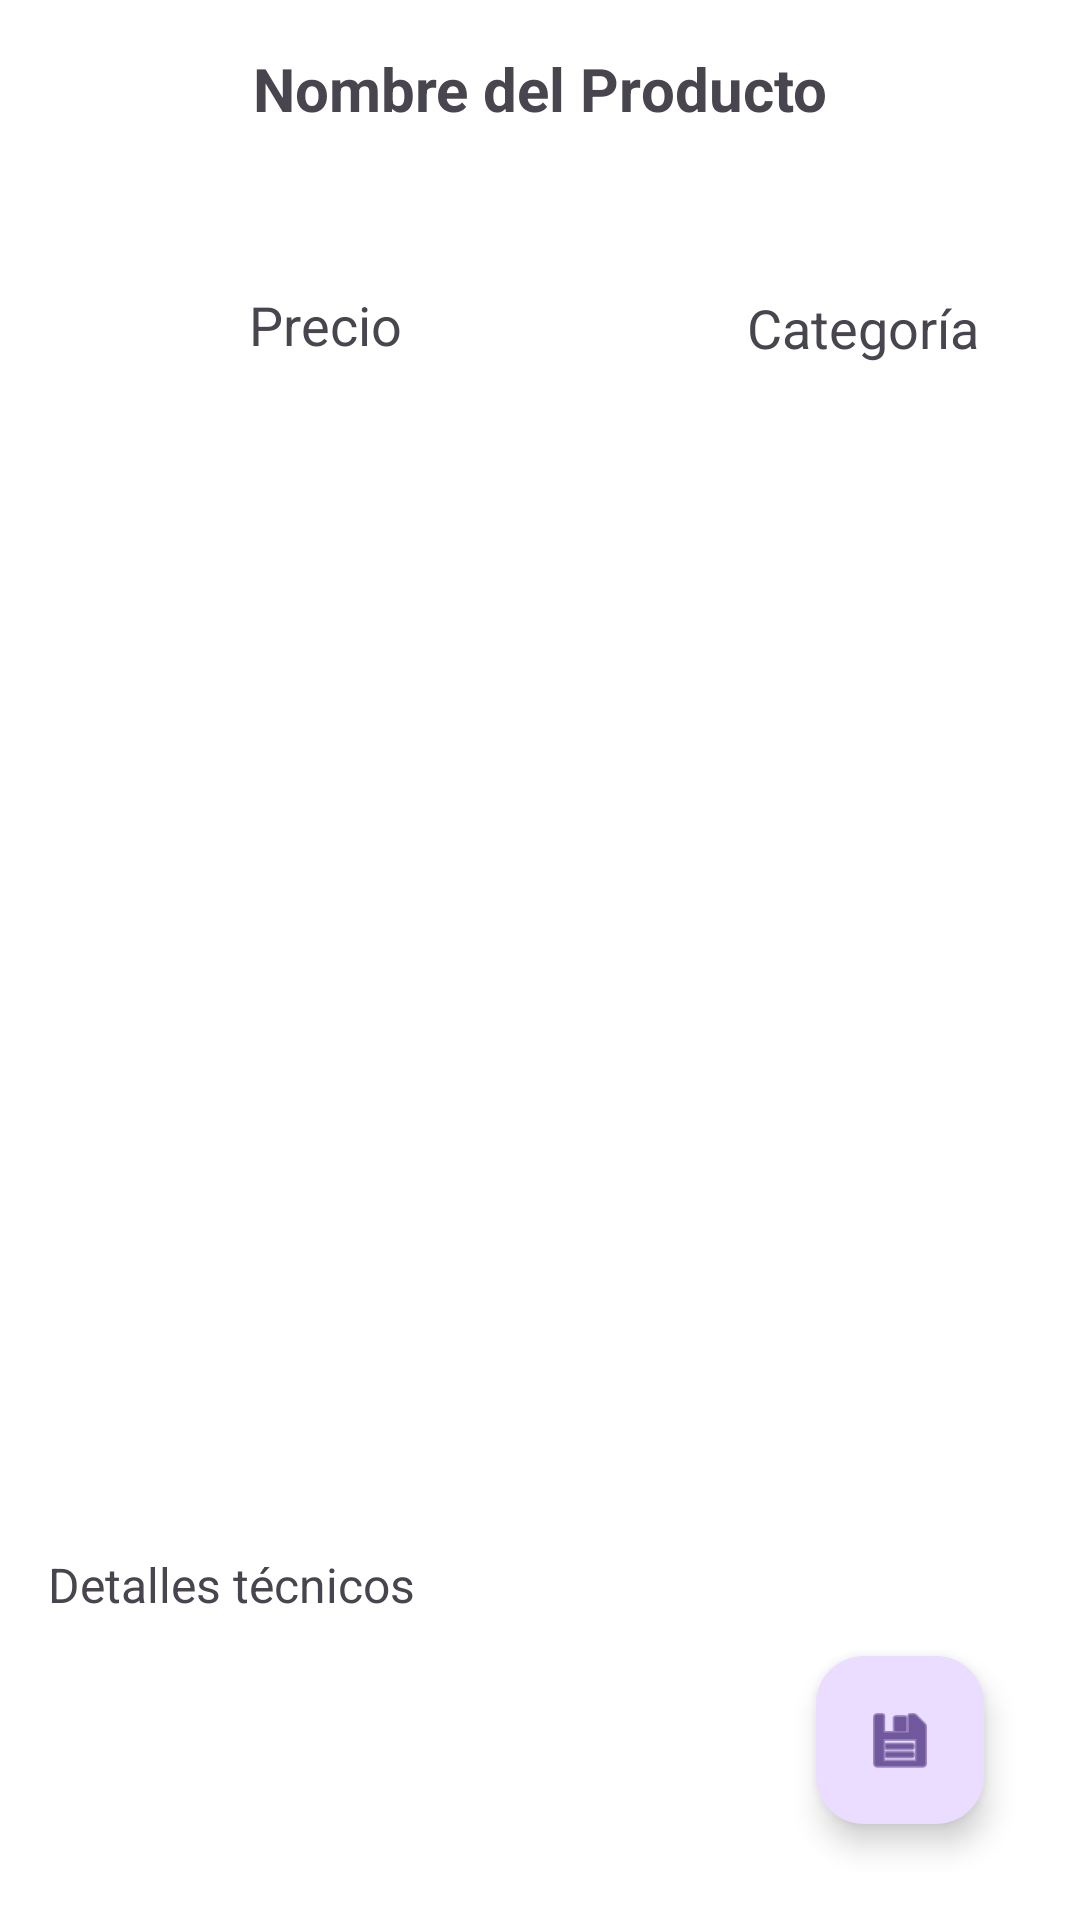

Screen size 1080w x 1920h. Icon name, then its box in pixels as (x1, y1, x2, y2):
save: (816, 1656, 984, 1824)
